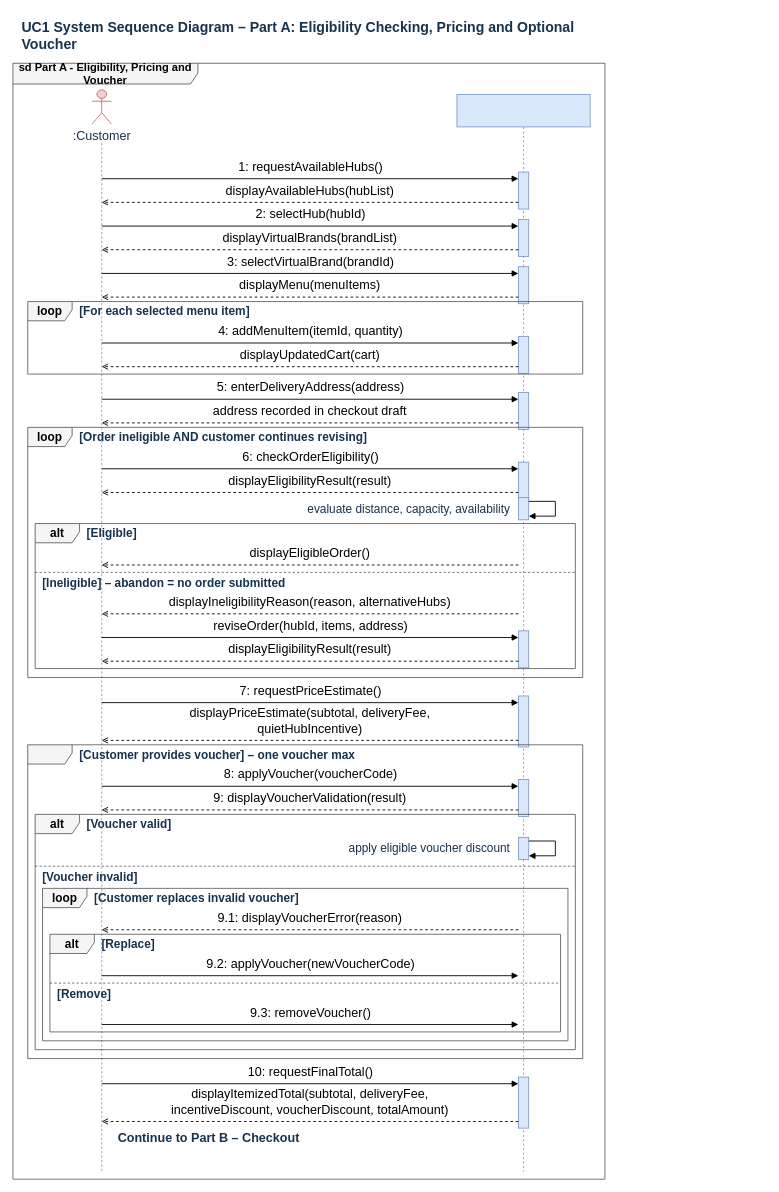
This 779x1192 diagram has some shape labels left out. Here are the shapes that lost their labels. From the top down, the centre of each, then its label:
the point at 523,110: :SaigonBiteOFDH
the point at 305,901: opt
